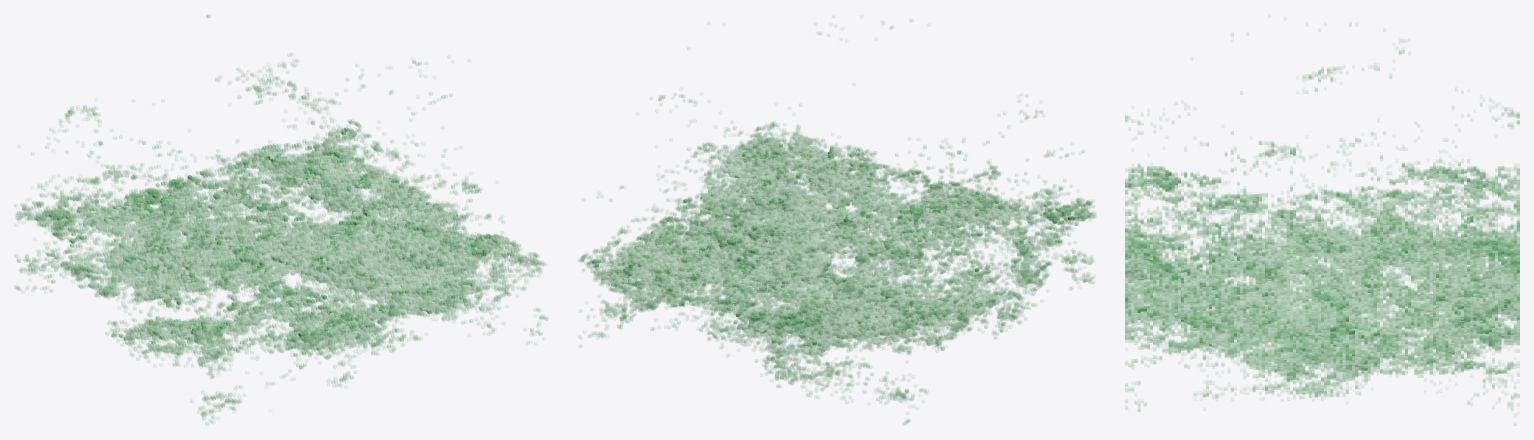
File: 125_voxel_128.glb
The picture shows the model from 3 angles, left to right: view 1: azimuth 30°, elevation 25°; view 2: azimuth 150°, elevation 25°; view 3: azimuth 270°, elevation 25°; orthographic projection. The views are drawn at different scales.
Bounding box in the file's own units: 1.98 × 1.42 × 1.98.
Materials: 1 (1 with a texture image).
